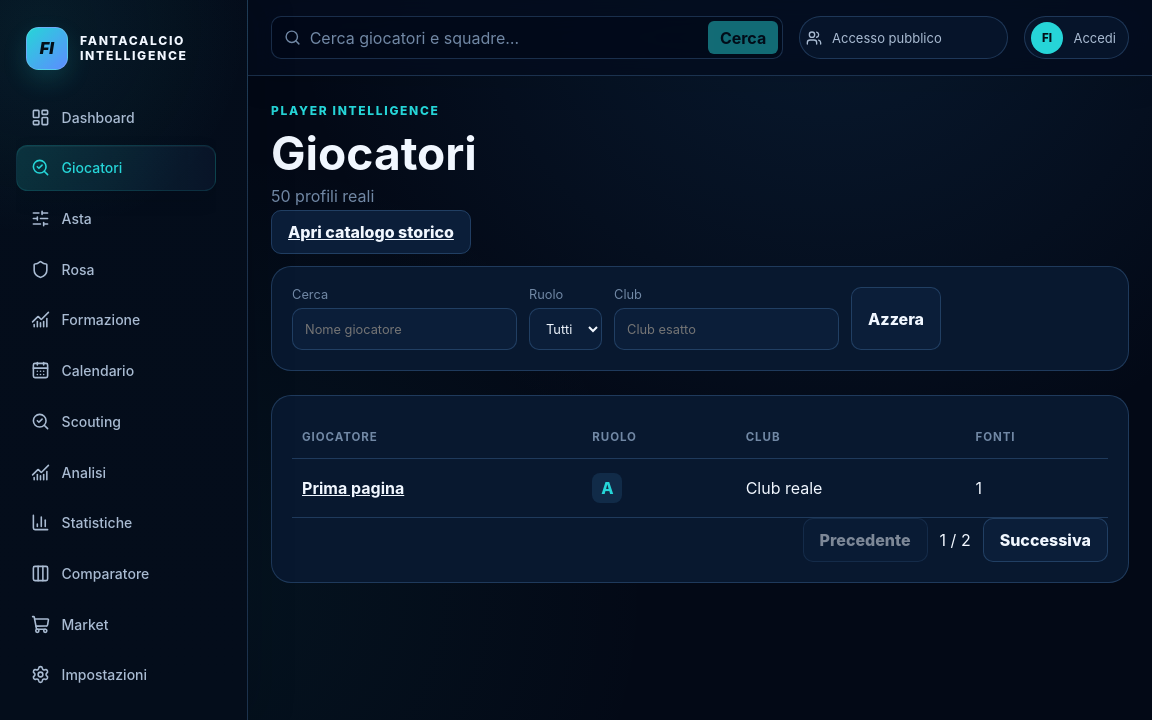
Test: catalogo giocatori › naviga dalla prima alla seconda pagina e torna alla prima
Expected: the link "Prima pagina" is shown, [302,478,404,498]
Click the button "Successiva".
click(1045, 540)  # box [983,518,1108,562]
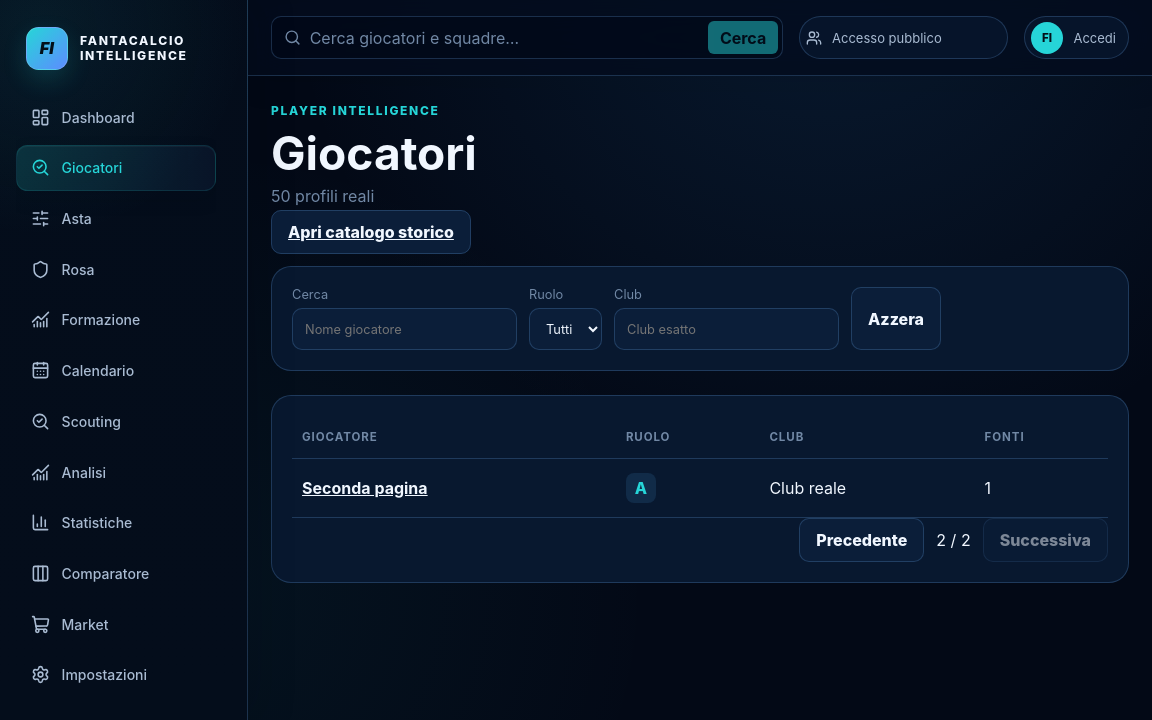
Expected: the link "Seconda pagina" is shown, [302,478,428,498]
Expected: the text "2 / 2" is shown, [936,530,971,550]
Click the button "Precedente".
click(862, 540)  # box [799,518,924,562]
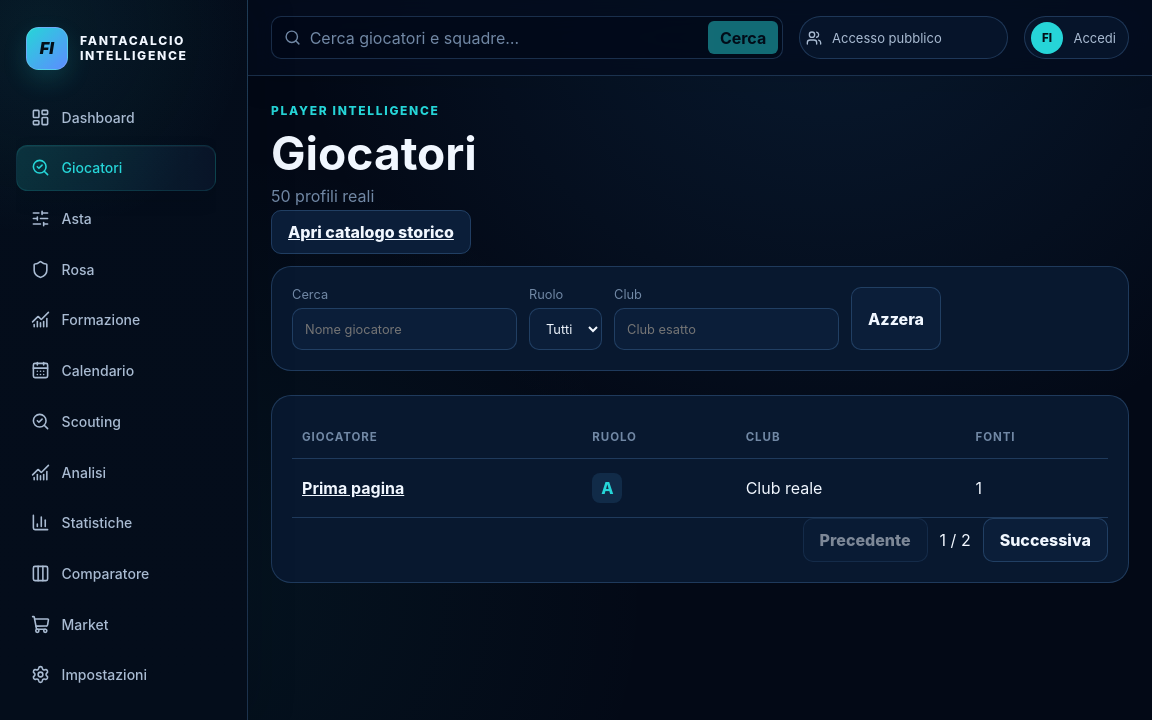
Expected: the link "Prima pagina" is shown, [302,478,404,498]
